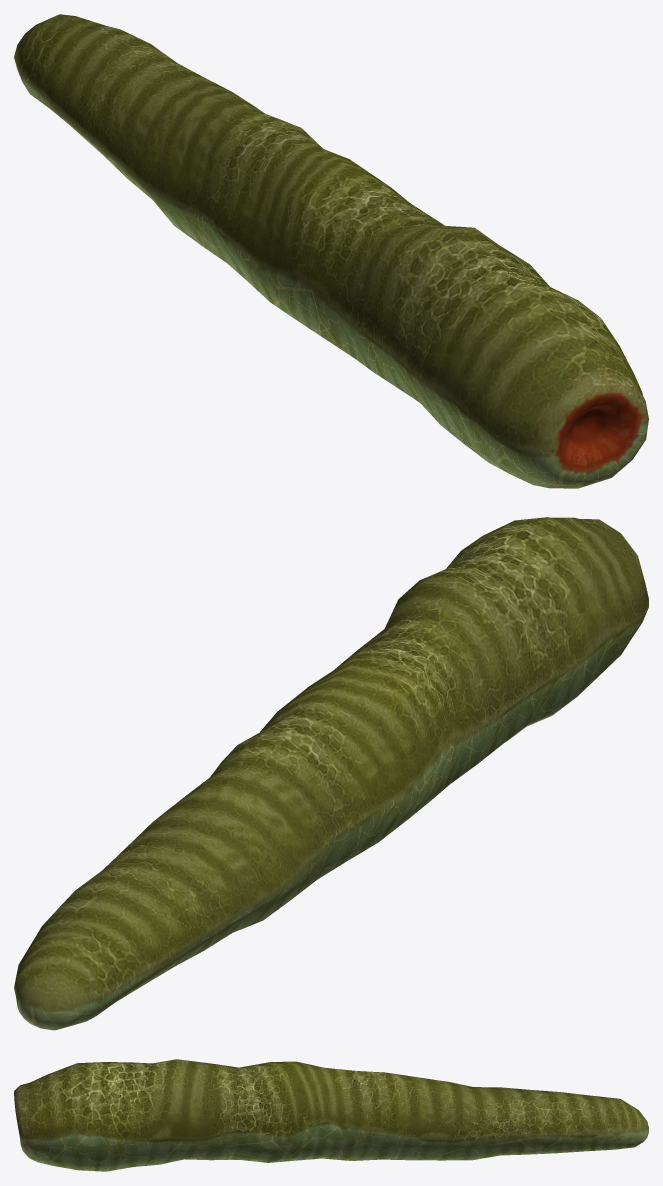
Rendered from CreatureWorm01.FBX.
The picture shows the model from 3 angles, top to bottom: view 1: azimuth 30°, elevation 25°; view 2: azimuth 150°, elevation 25°; view 3: azimuth 270°, elevation 25°; orthographic projection. The views are drawn at different scales.
Parts seen in each view (by area): view 1: CreatureWorm01; view 2: CreatureWorm01; view 3: CreatureWorm01.
Boxes of the visible parts, <box> form: CreatureWorm01: <box>14,14,648,488</box>; CreatureWorm01: <box>14,517,648,1030</box>; CreatureWorm01: <box>14,1059,648,1171</box>.
Bounding box in the file's own units: 0.1079 × 0.1178 × 0.6479.
